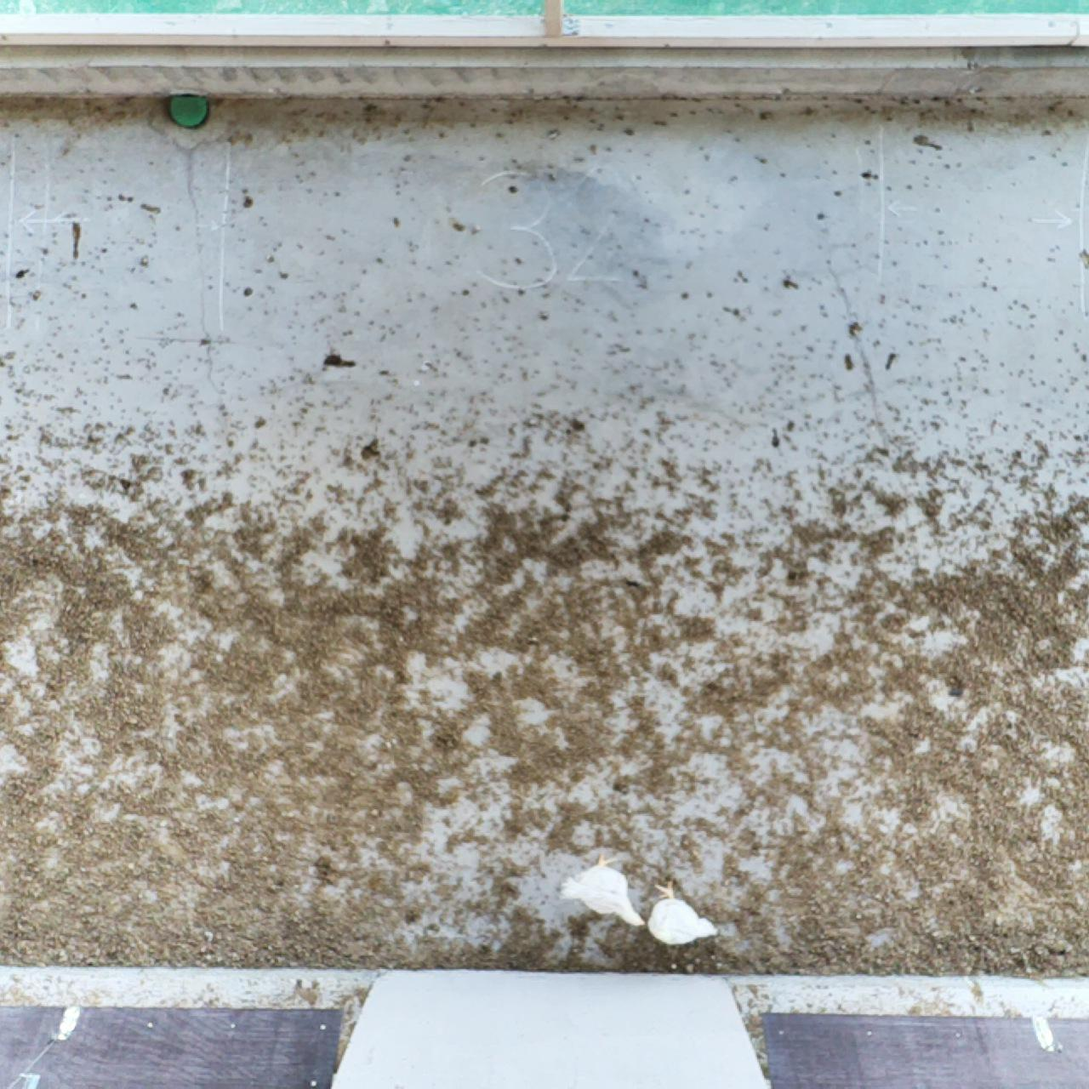chicken: (556, 850, 645, 940), (643, 875, 722, 948)
